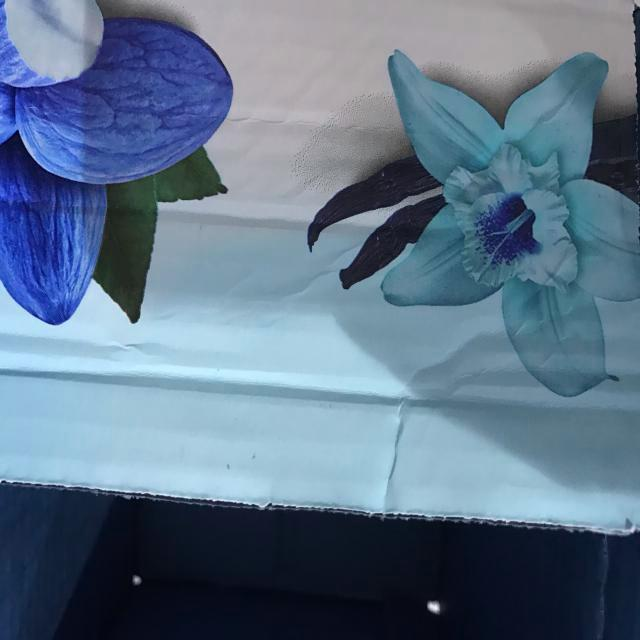cardboard: (0, 1, 640, 537)
